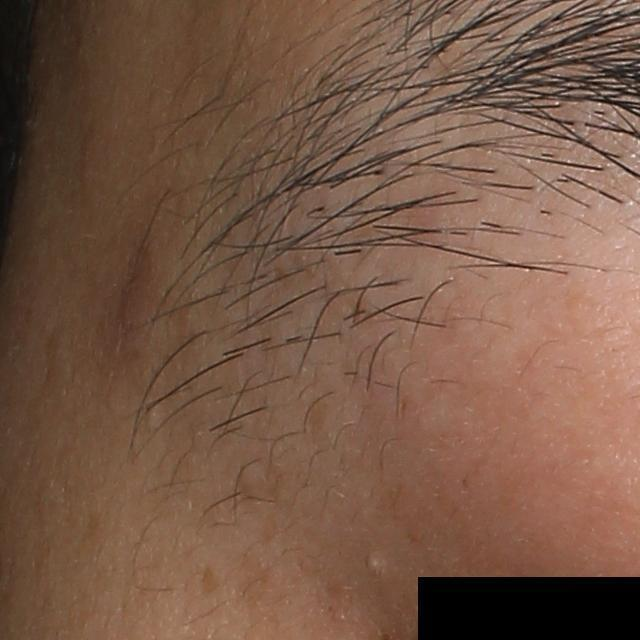melasma: (200, 563, 221, 594)
other: (364, 551, 390, 576)
